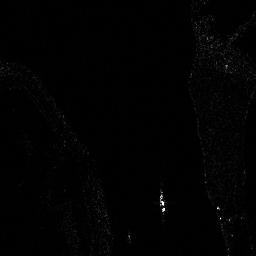ship: (157, 190, 166, 213)
